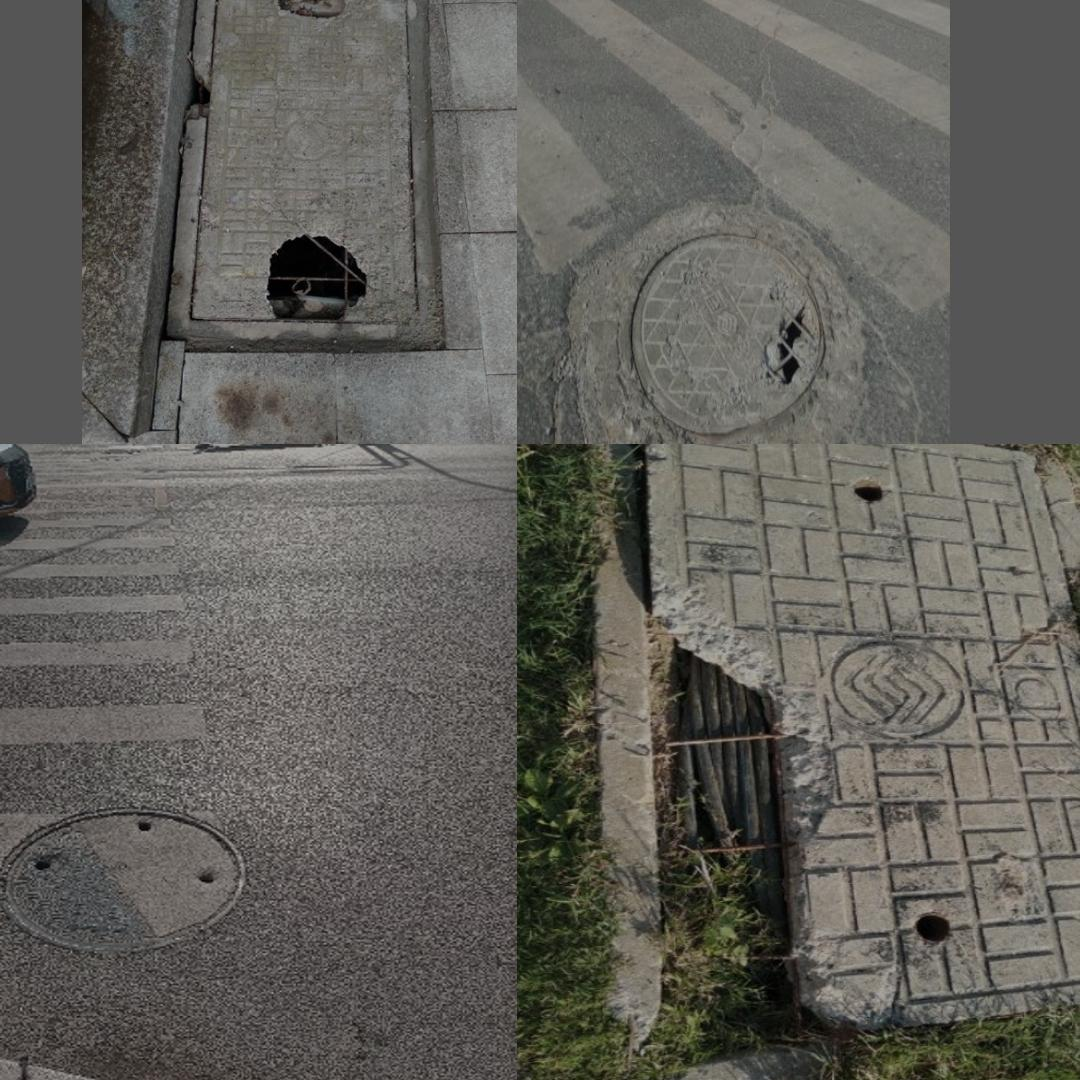broke: (591, 448, 1080, 1080), (167, 0, 439, 342), (617, 223, 831, 444), (0, 807, 247, 949)
